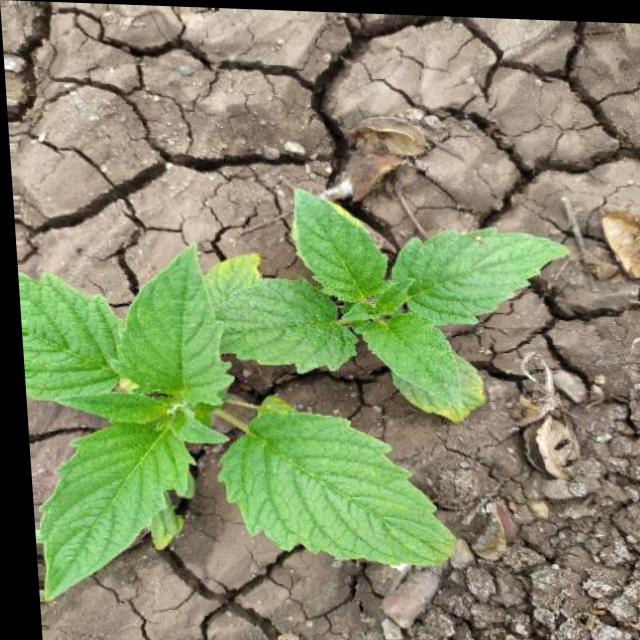crop: (13, 232, 455, 610), (188, 164, 577, 432)
